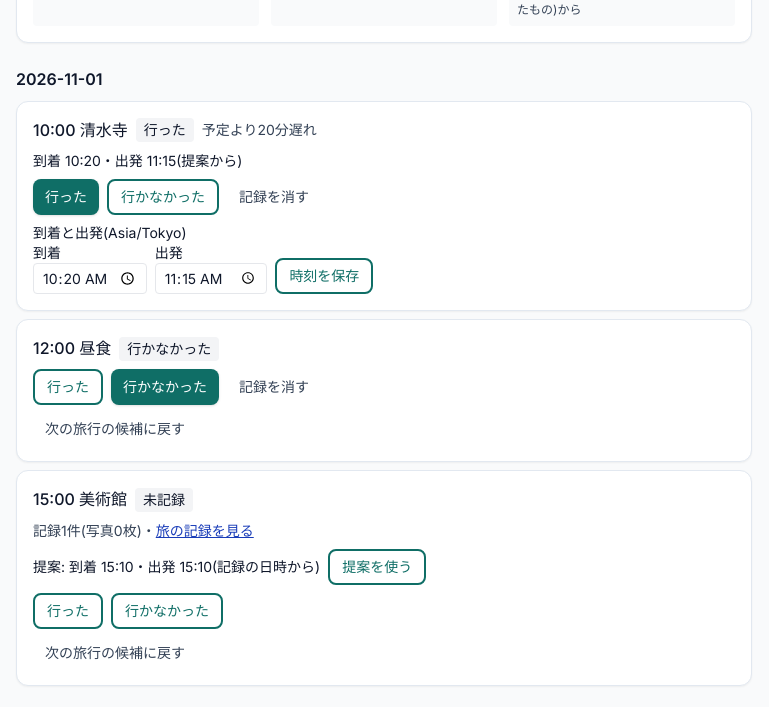
JourneyPage (Gate P14) › 行かなかった予定を別の旅行の日へ戻す
(page scrolled)
Expected: the text with test id "actual-status" next to "12:00 昼食" reads "行かなかった", [127, 340, 211, 357]
Click the button "次の旅行の候補に戻す" below "12:00 昼食" at coordinates (115, 430), box [33, 414, 197, 446]
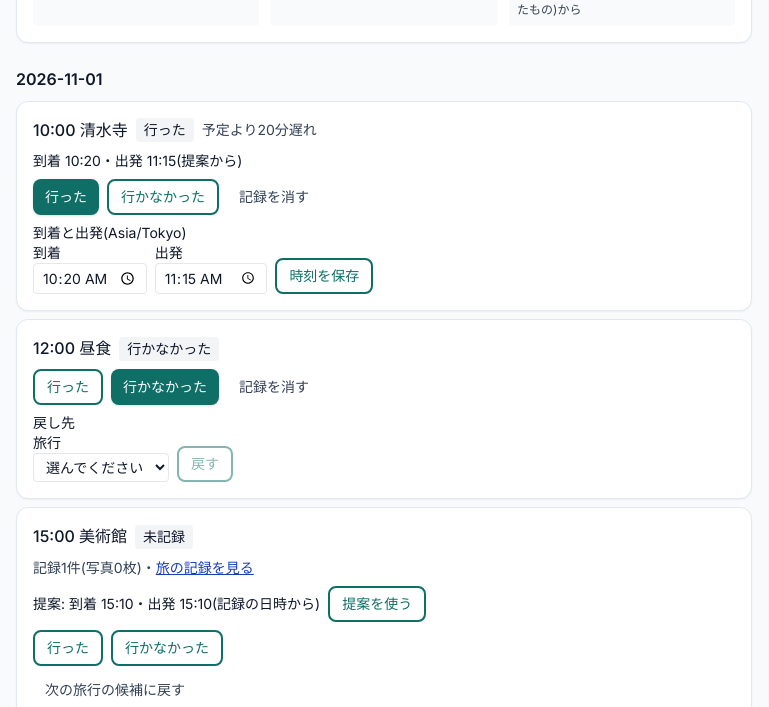
Select "次の京都" in the dropdown labelled "旅行" at coordinates (101, 468), box [33, 454, 169, 482]
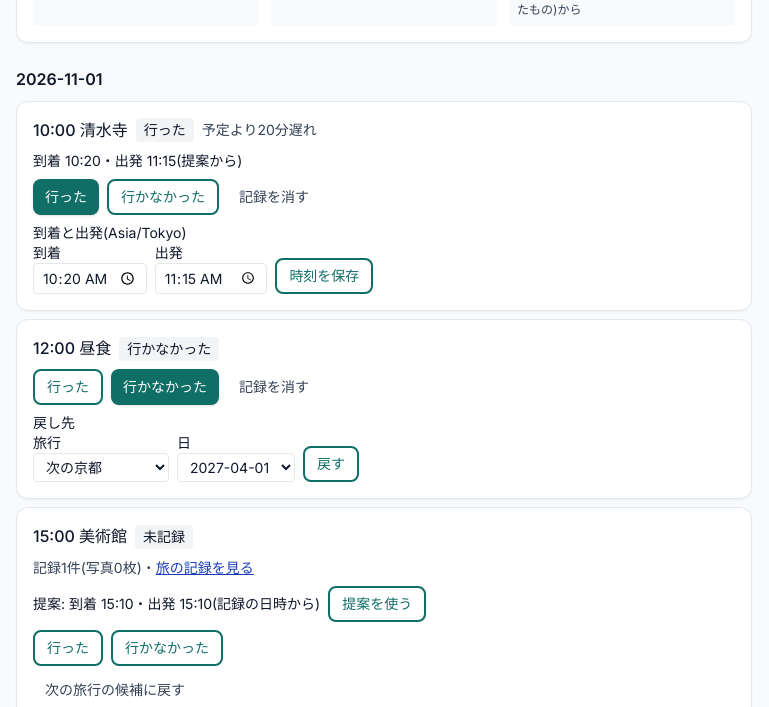
Now the dropdown labelled "日" shows "2027-04-01", box [177, 454, 295, 482]
Click the button "戻す" at coordinates (331, 464), box [303, 446, 359, 482]
(page scrolled)
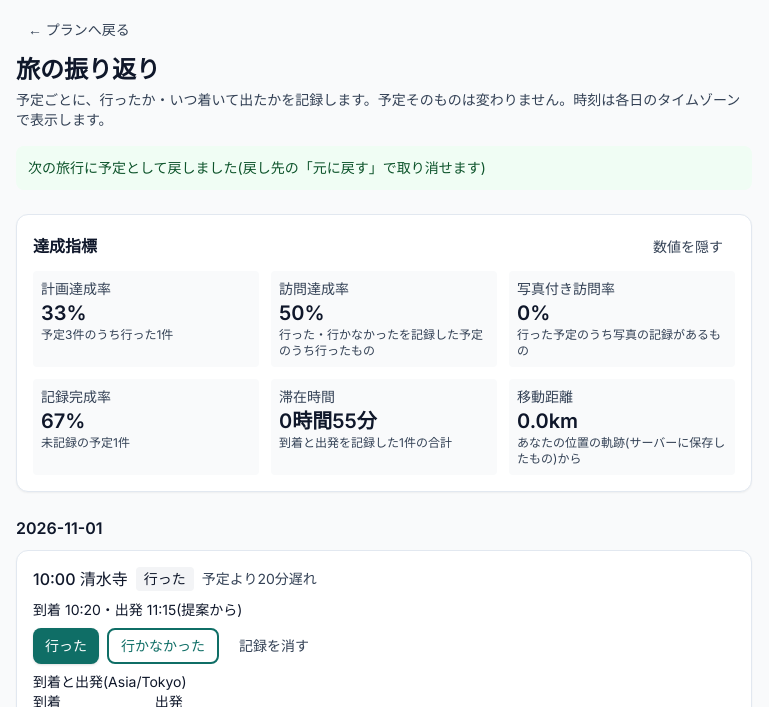
Now the text "次の旅行に予定として戻しました(戻し先の「元に戻す」で取り消せます)" is shown, box [16, 146, 752, 190]
